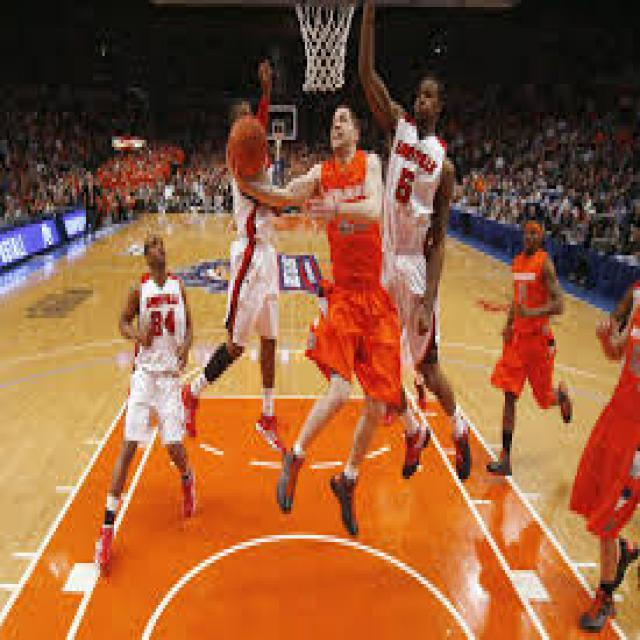basketball: (228, 115, 268, 182)
